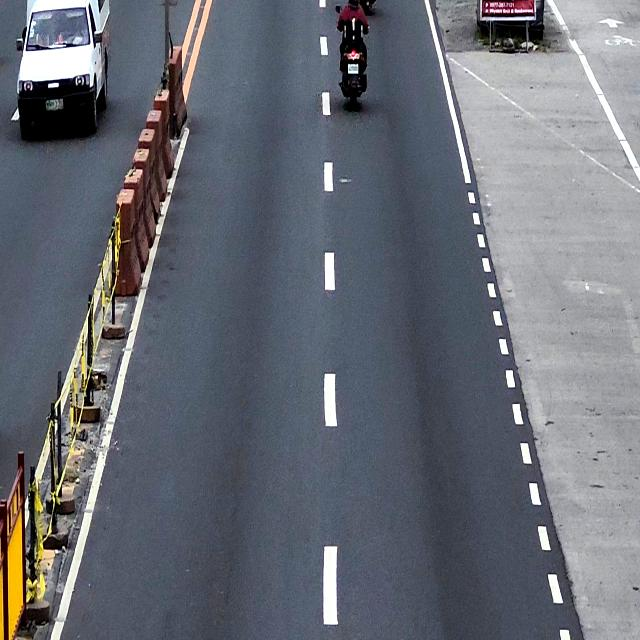License-Plate: (348, 63, 359, 74)
Motorcycle: (336, 3, 370, 109)
